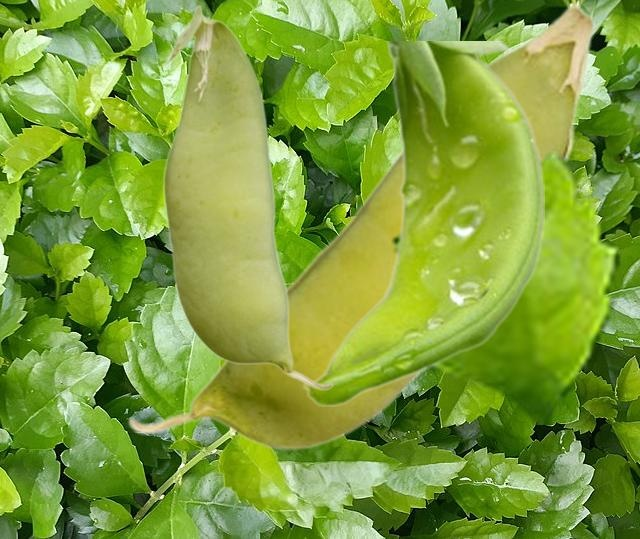pea: (127, 4, 595, 449), (301, 41, 543, 405), (160, 4, 334, 390)
